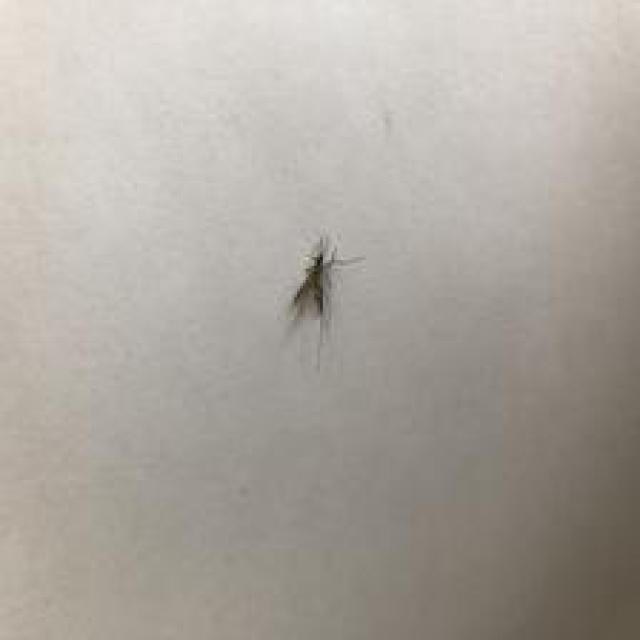Culex: (280, 234, 366, 369)
